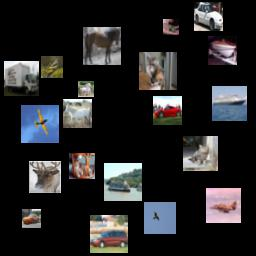airplane: (21, 105, 59, 143), (206, 188, 241, 223)
automobile: (90, 215, 128, 253), (153, 96, 182, 125), (194, 2, 223, 31), (22, 209, 41, 228)
bird: (144, 202, 176, 234), (41, 56, 63, 78)
cat: (139, 52, 177, 90), (183, 136, 218, 171), (69, 153, 95, 179)
deer: (29, 161, 61, 193)
frog: (163, 19, 179, 35)
ship: (104, 163, 142, 201), (212, 86, 247, 121), (208, 36, 237, 65)
truck: (4, 61, 39, 96)
